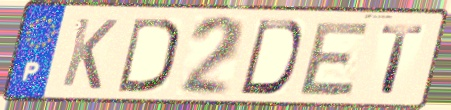2: (177, 14, 248, 99)
D: (236, 17, 305, 97), (115, 15, 182, 95)
E: (295, 19, 374, 97)
K: (58, 15, 121, 93)
T: (378, 23, 427, 96)
